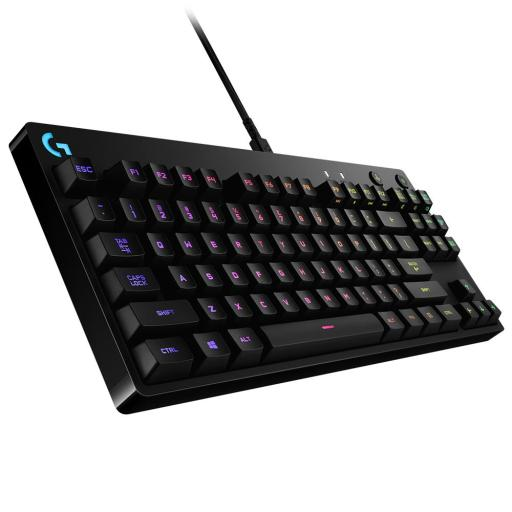keyboard: (10, 123, 503, 413)
